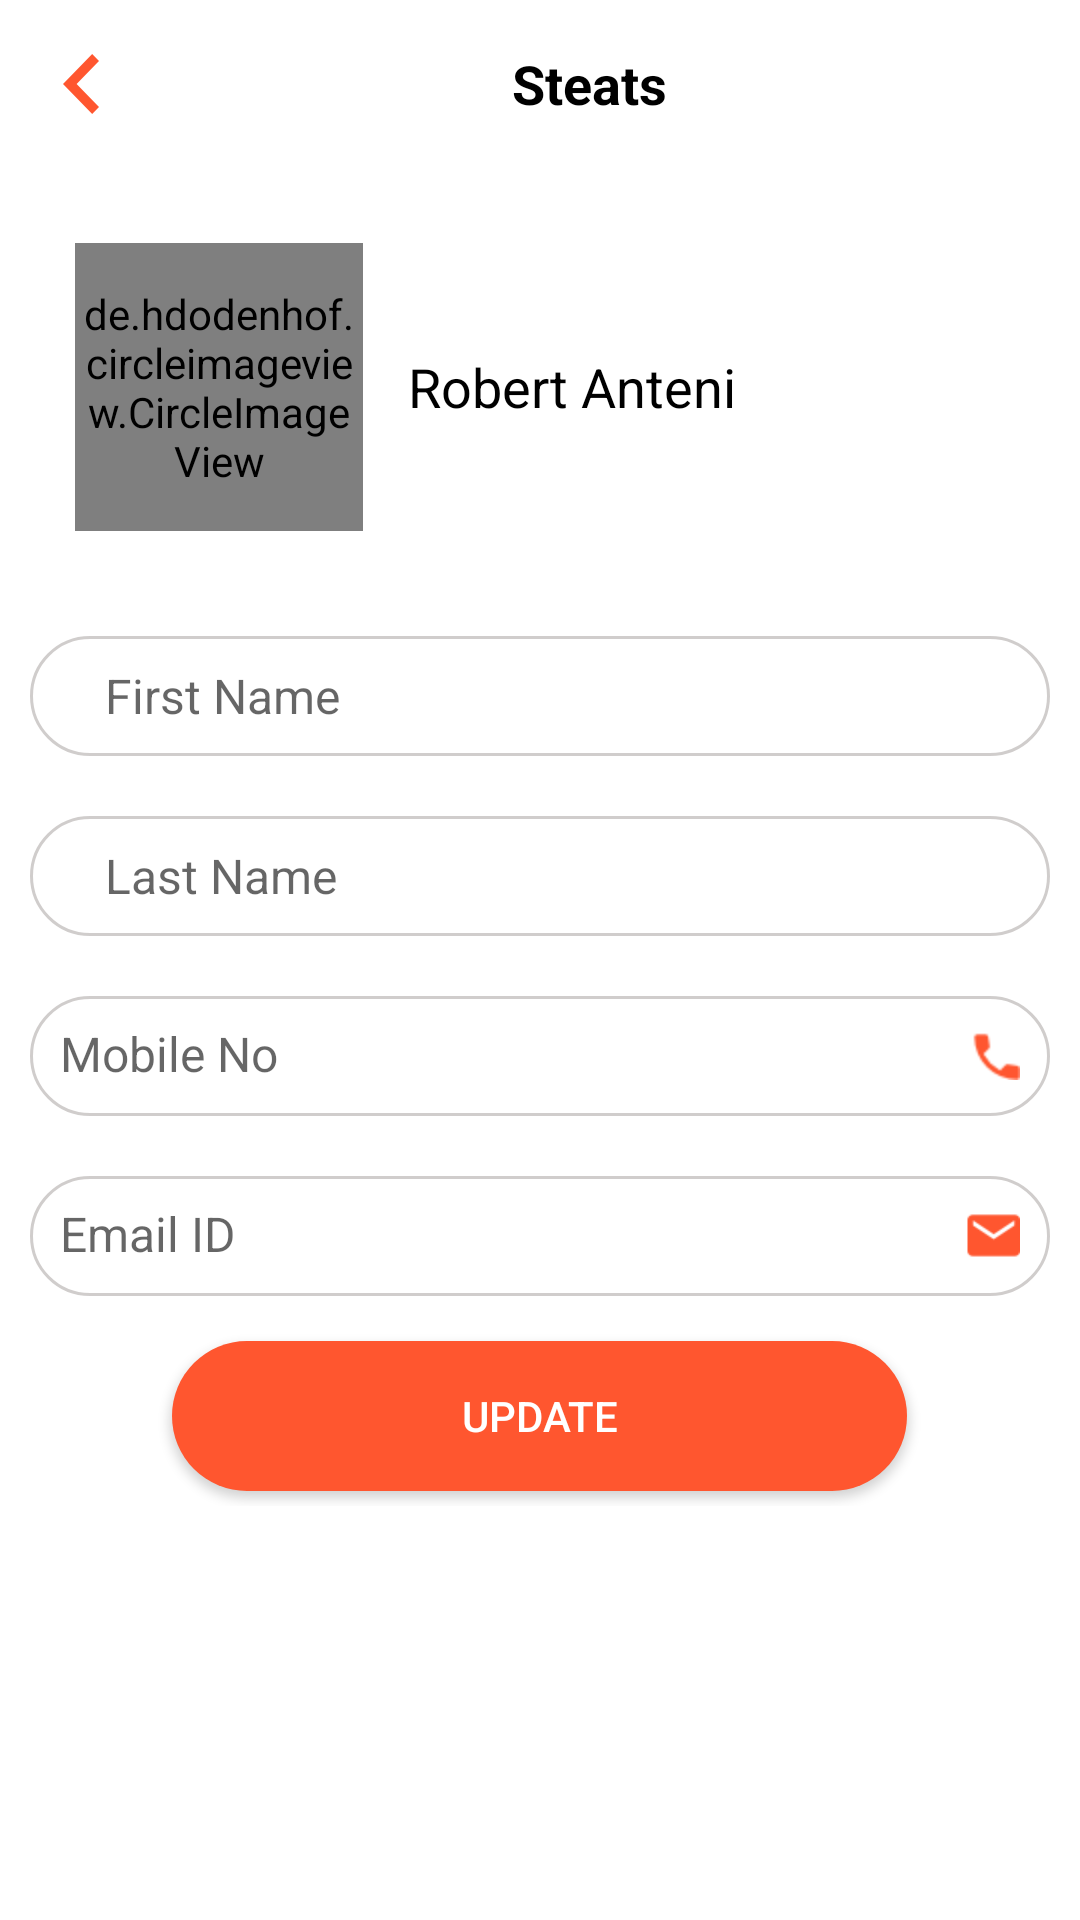

Where to tap for icons on this 1080 x 1920 app screen, as (x,y):
back: (81,84)
